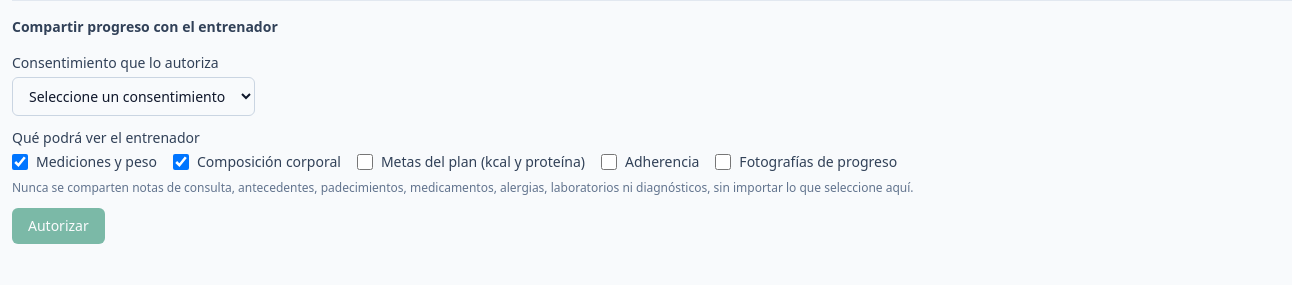
Test case: CoachSharingPanel › warns while she is deciding that photos need a photo consent too
Click the checkbox labelled "Fotografías de progreso" at (723, 162), box [715,154,731,170]
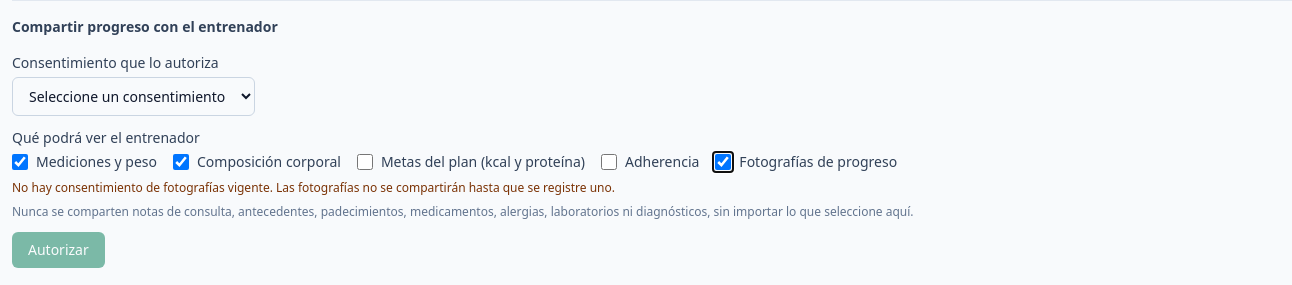
expect the text "no se compartirán hasta" is shown: met, box [12,179,615,196]
